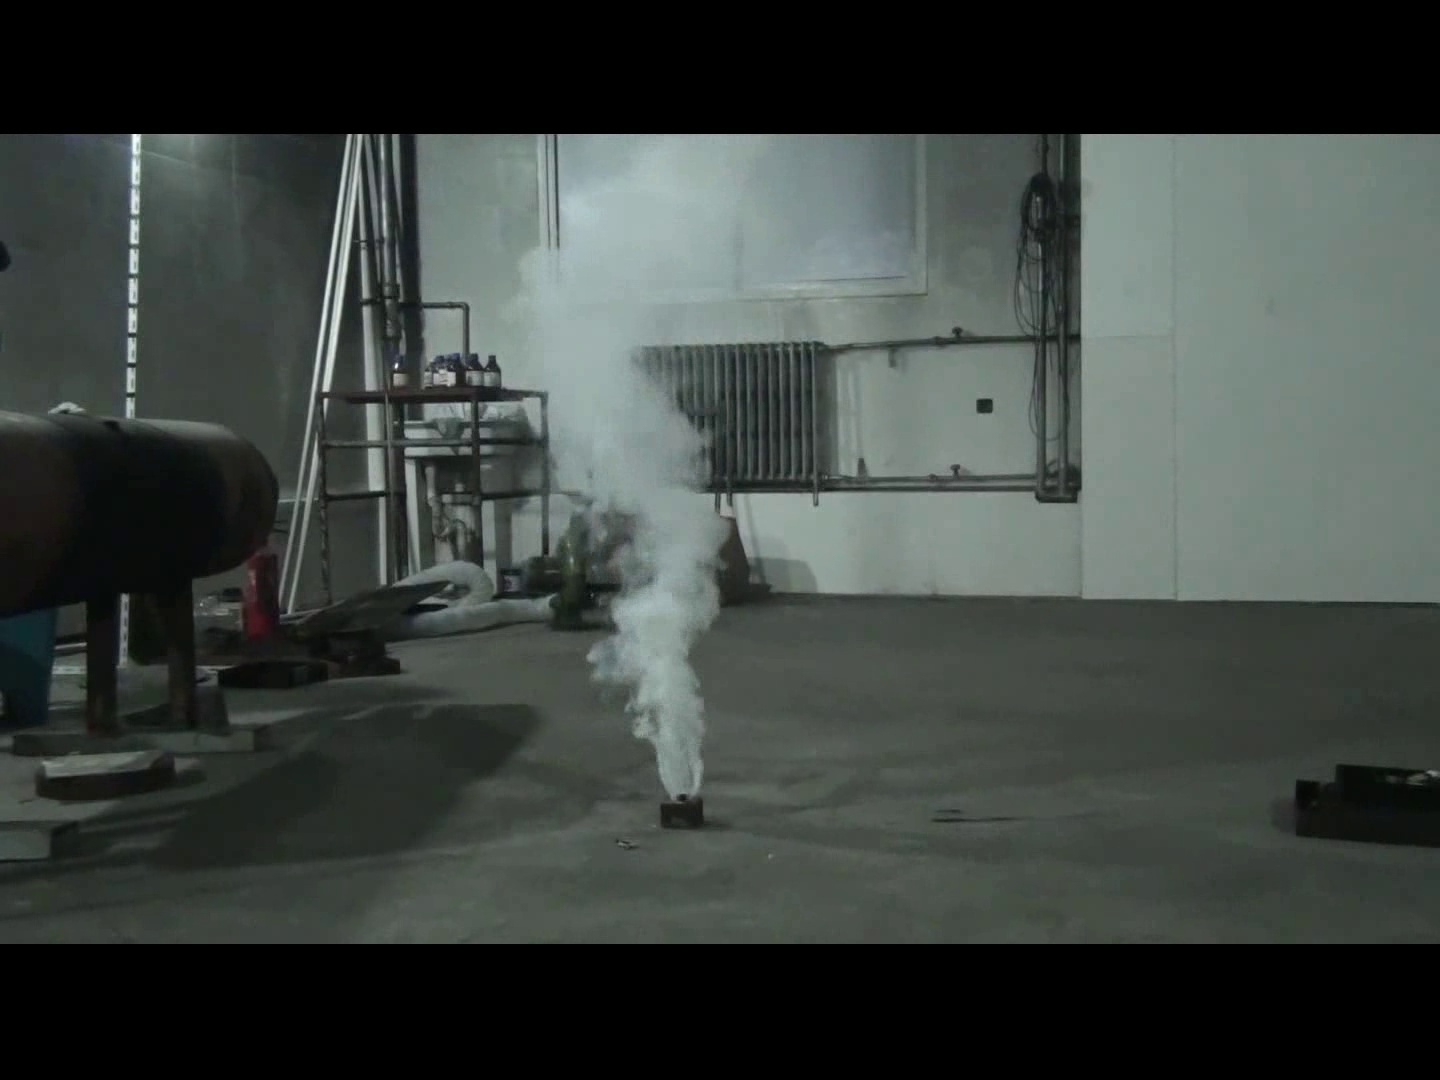smoke: (474, 227, 730, 803)
